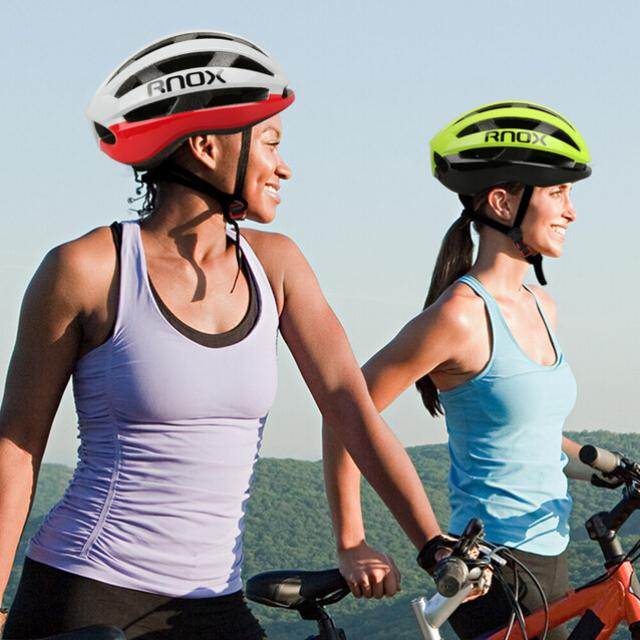Helmet: (78, 25, 302, 239), (416, 82, 602, 267)
